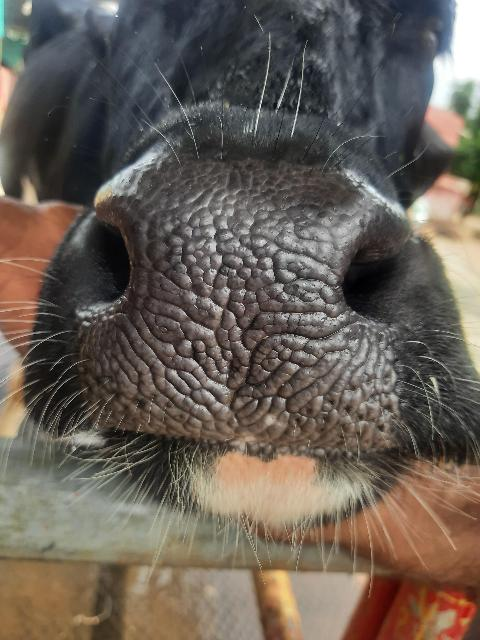Muzzle: (122, 177, 344, 443)
